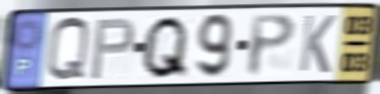9: (194, 12, 236, 81)
K: (296, 13, 338, 76)
P: (246, 11, 298, 79), (88, 15, 137, 82)
Q: (139, 14, 191, 82), (44, 15, 92, 85)
